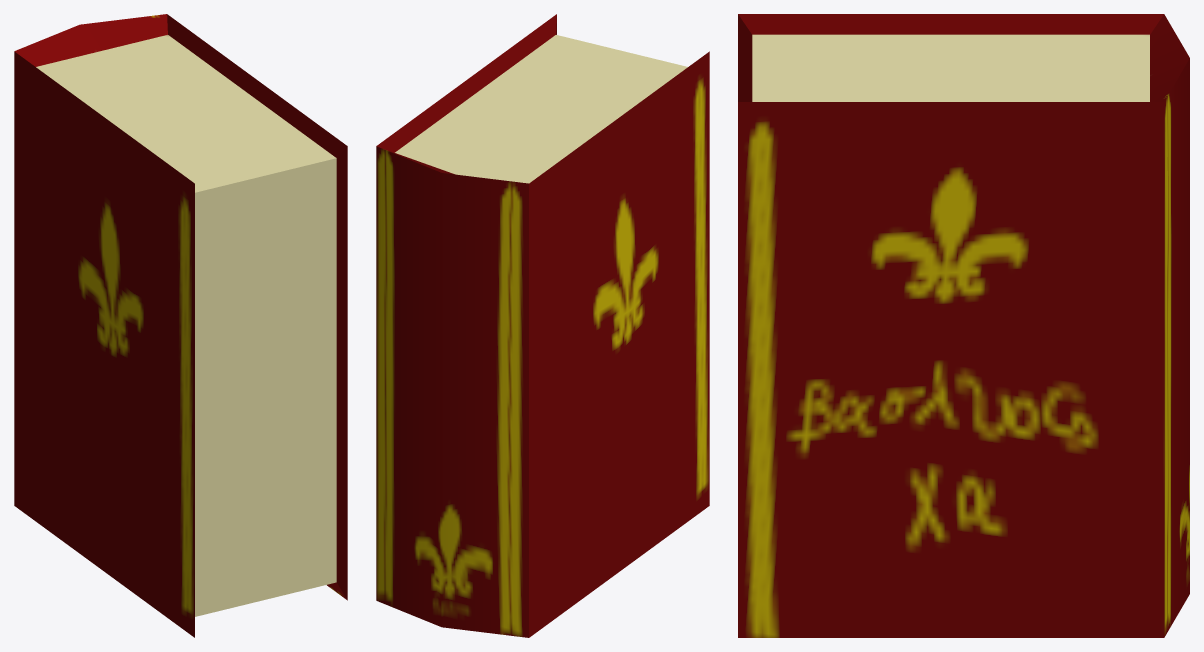
The model's file is book1.fbx.
The picture shows the model from 3 angles, left to right: view 1: azimuth 30°, elevation 25°; view 2: azimuth 150°, elevation 25°; view 3: azimuth 270°, elevation 25°; orthographic projection. The views are drawn at different scales.
Visible parts, largest first — view 1: book1; view 2: book1; view 3: book1.
Boxes of the visible parts, x1,y1,x2,y2 form: book1: (14, 14, 347, 637); book1: (376, 14, 709, 637); book1: (738, 14, 1189, 637).
Size of the model in its own units: 17.3 by 49.15 by 37.56.
